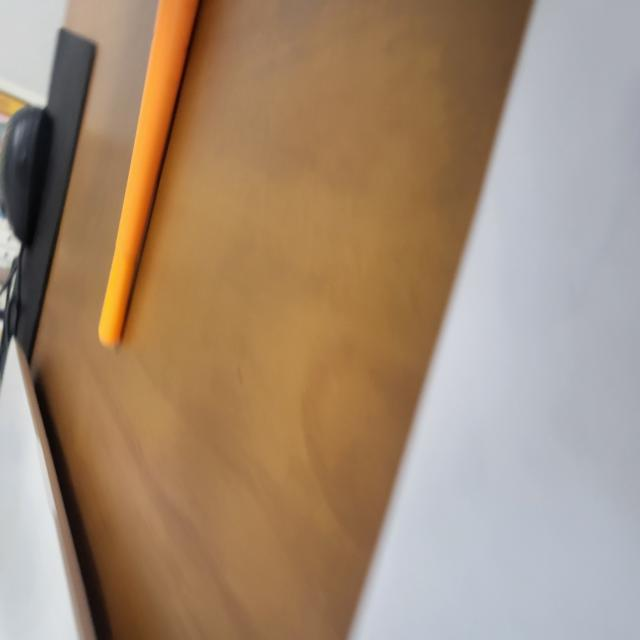carrot: (92, 2, 200, 350)
